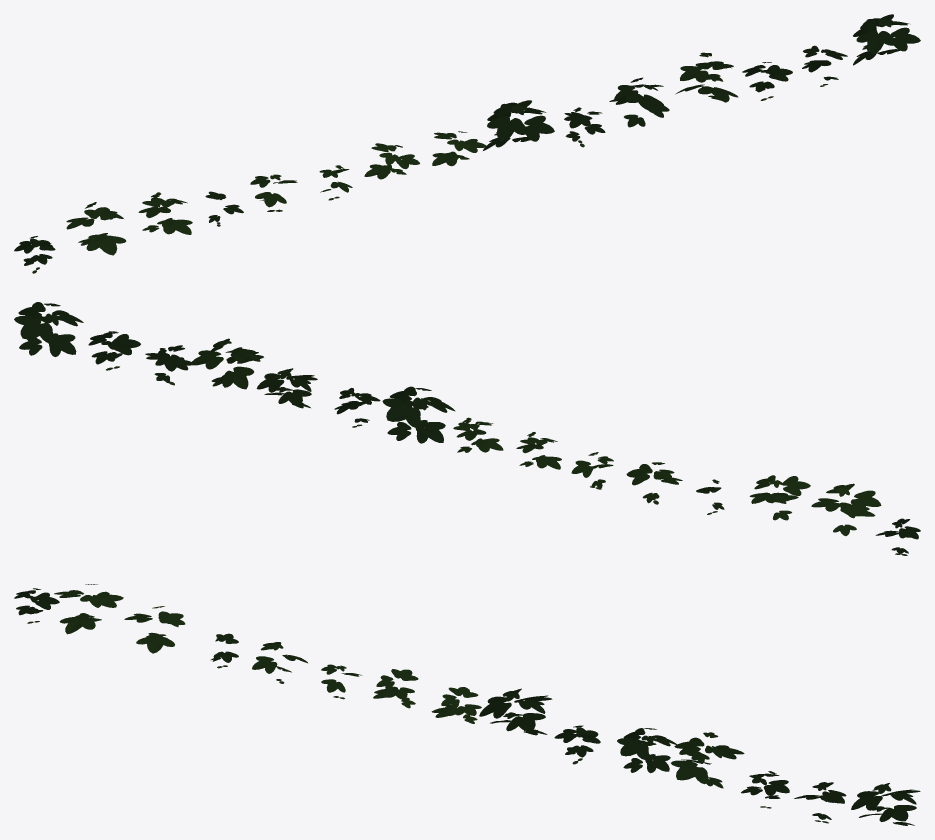
File: ROW_11_SEG1_foliage.dae
The picture shows the model from 3 angles, top to bottom: view 1: azimuth 30°, elevation 25°; view 2: azimuth 150°, elevation 25°; view 3: azimuth 330°, elevation 25°; orthographic projection.
Parts seen in each view (by area): view 1: ROW_11_SEG1_foliage; view 2: ROW_11_SEG1_foliage; view 3: ROW_11_SEG1_foliage.
Boxes of the visible parts, x1=… form: ROW_11_SEG1_foliage: x1=14, y1=14, x2=920, y2=273; ROW_11_SEG1_foliage: x1=14, y1=302, x2=920, y2=555; ROW_11_SEG1_foliage: x1=14, y1=584, x2=920, y2=825.
Size of the model in its own units: 4.52 by 0.4086 by 0.2904.
